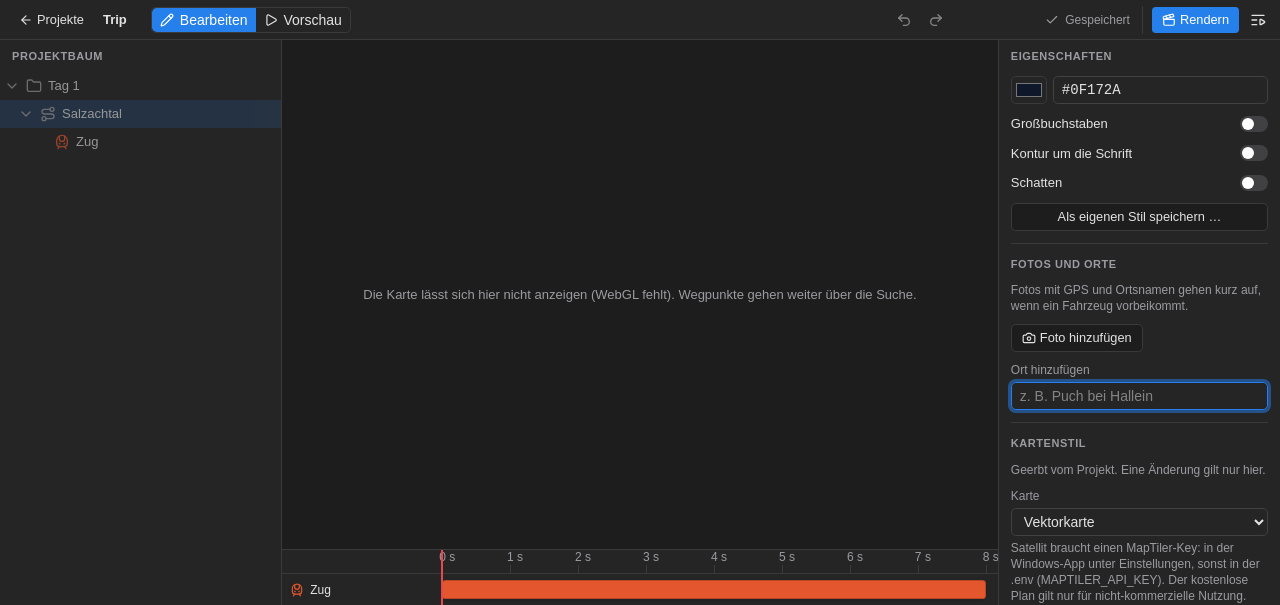
photos and places › finds the place on the way before the one of the same name far off
The image size is (1280, 605).
(page scrolled)
expect the heading "Trip" is shown: met, box [103,10,127,29]
Note: Focus without a click: jsdom's zero-size panels would take the click (EditorScreen.test).
Type keys "Puch"
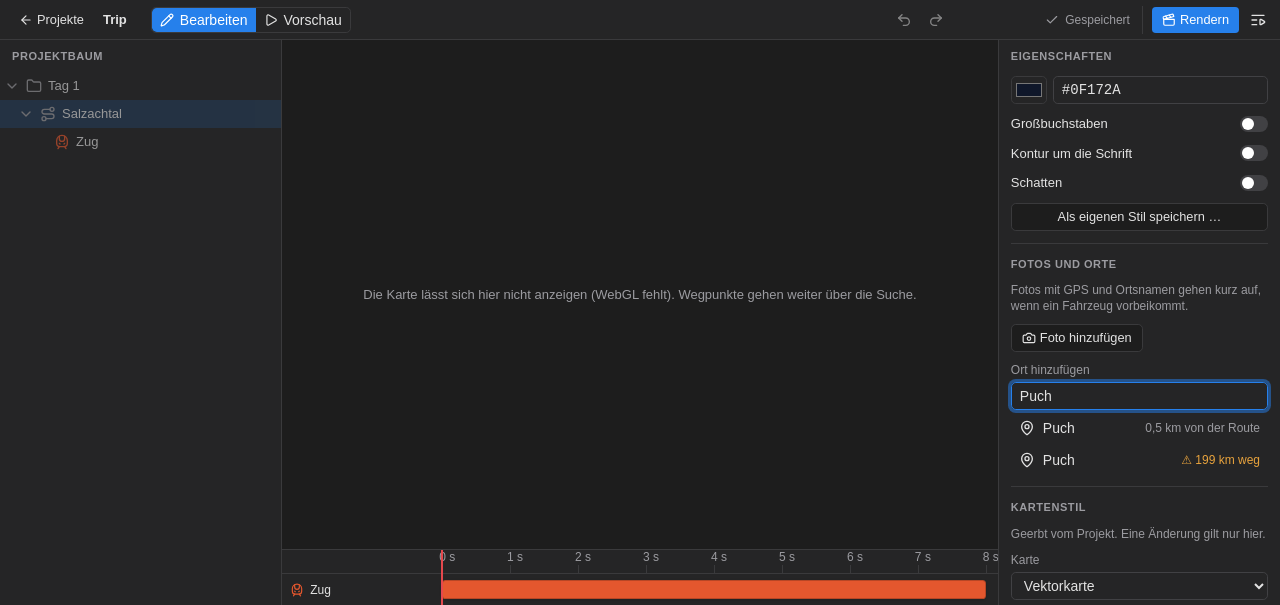
expect the button "Puch 0,5 km von der Route" is shown: met
expect the button "Puch ⚠ 199 km weg" is shown: met, box [1011,446,1268,474]
Click the button "Puch 0,5 km von der Route" at (1139,428), box [1011,414,1268,442]
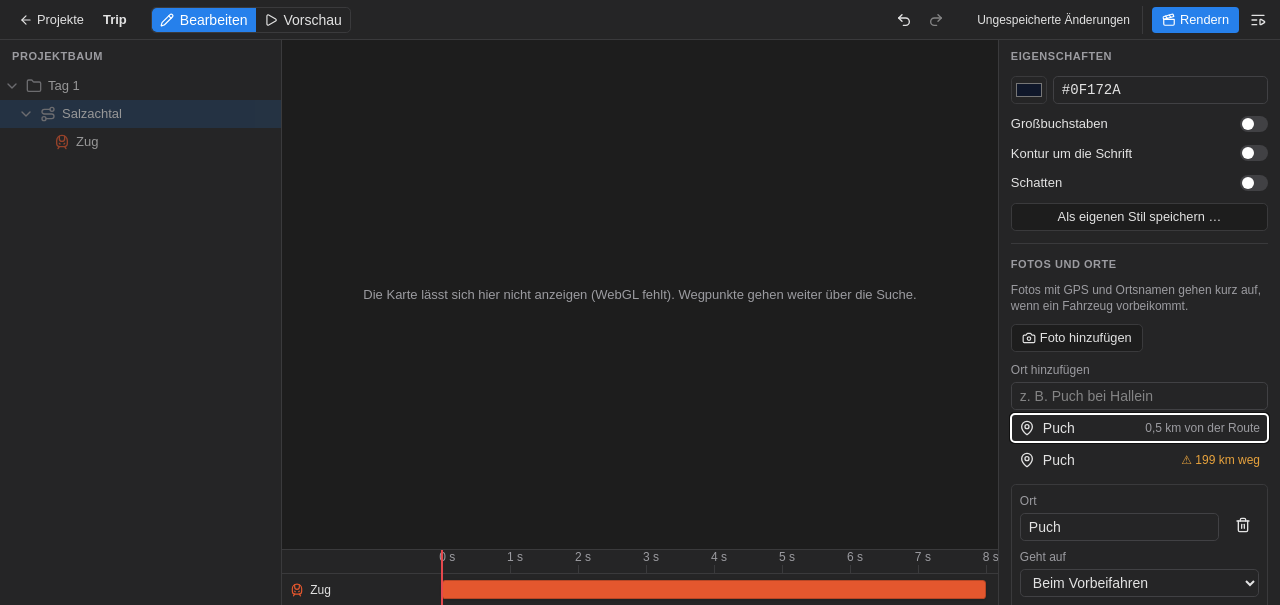
expect the field showing "Puch" is shown: met, box [1020,513,1219,541]
Select "Zu fester Zeit" in the dropdown labelled "Geht auf" at (1139,583), box [1020,569,1259,597]
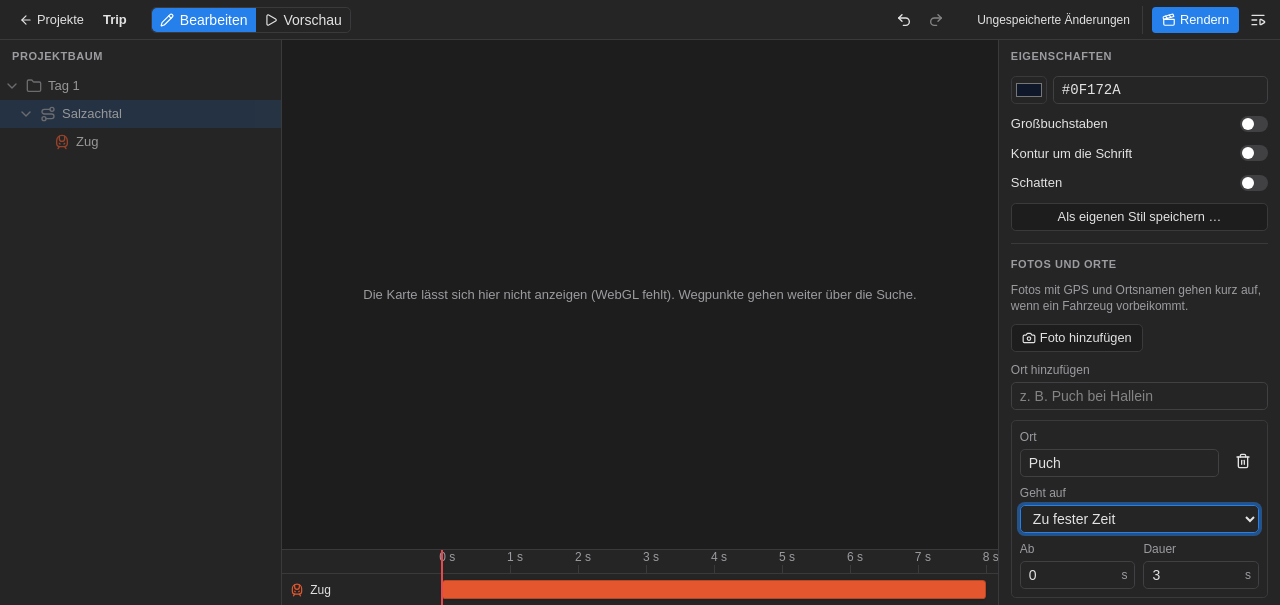
expect the field labelled "Ab" holds "0": met, box [1020,561,1135,589]
